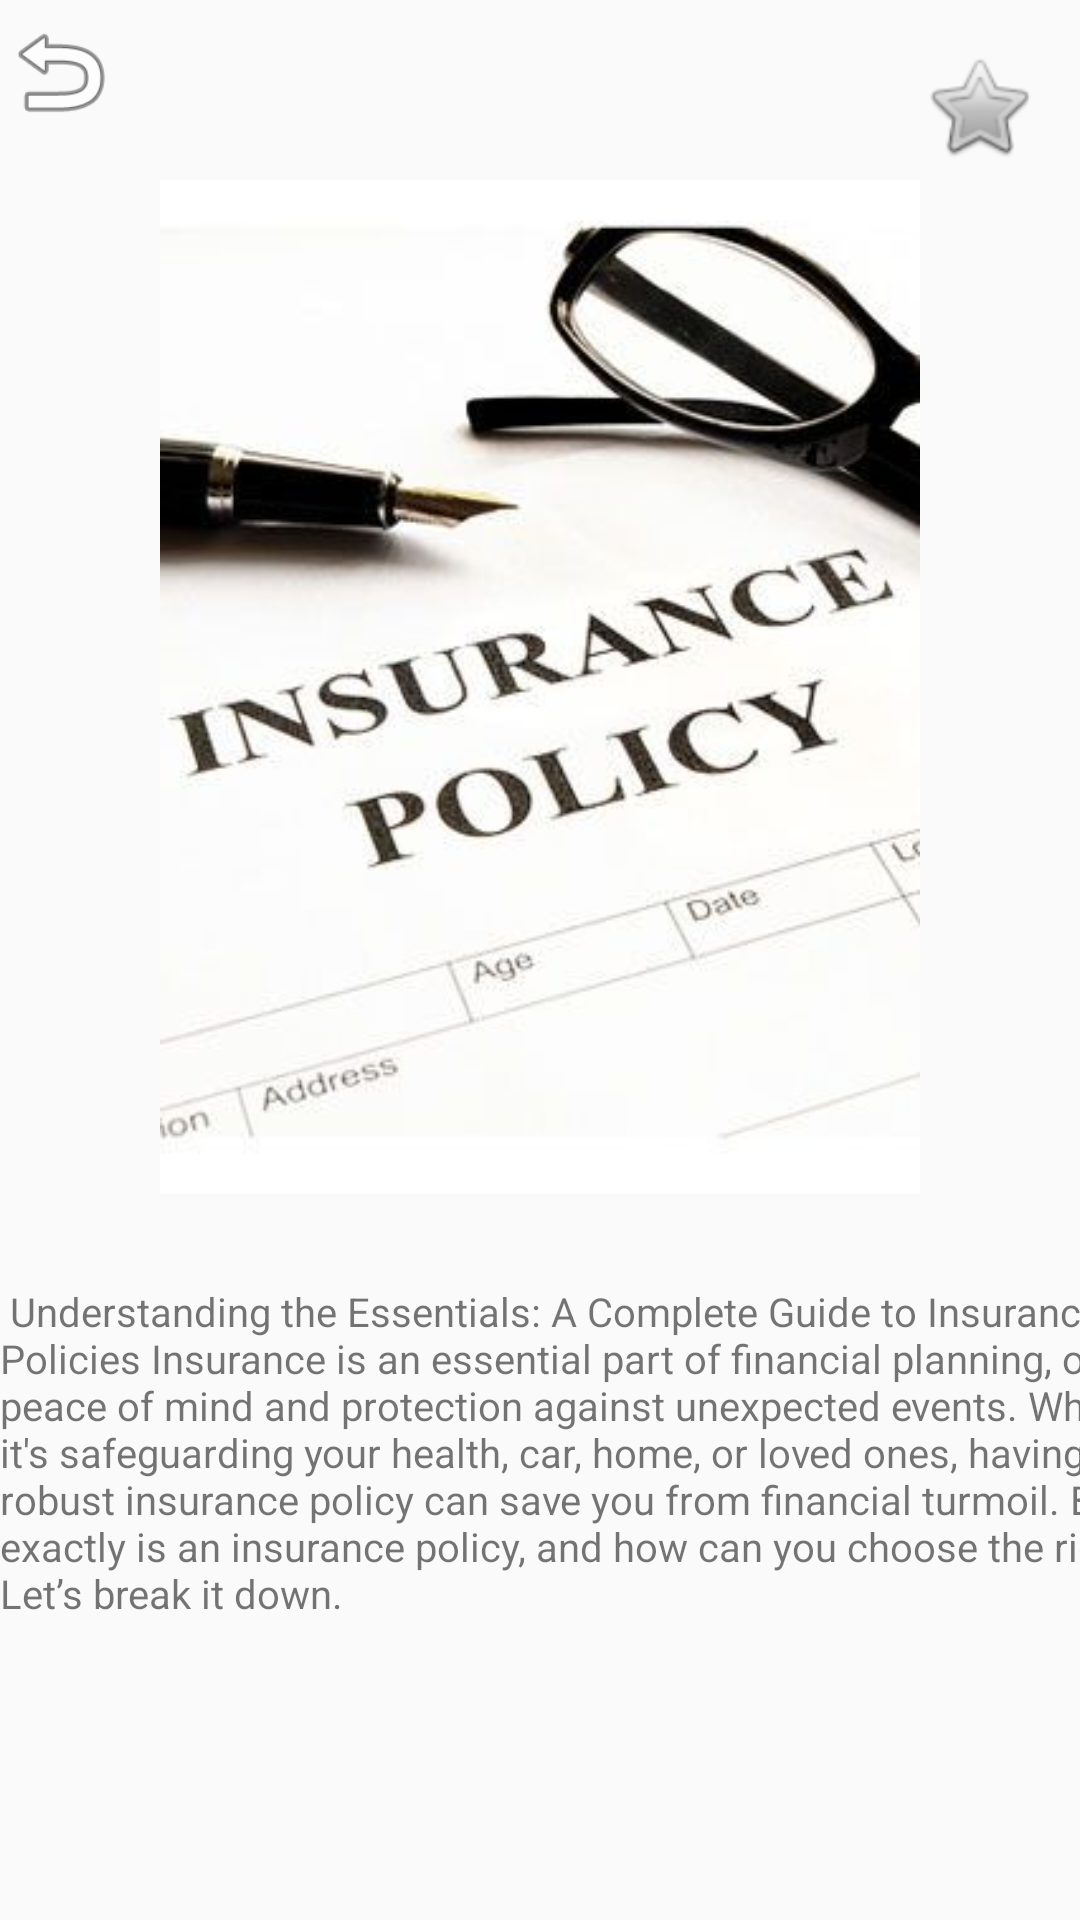

Named icons in this screenshot (1080×1920) and their bounding boxes, (x1, y1, x2, y2):
revert: (18, 34, 105, 112)
star: (931, 60, 1029, 155)
